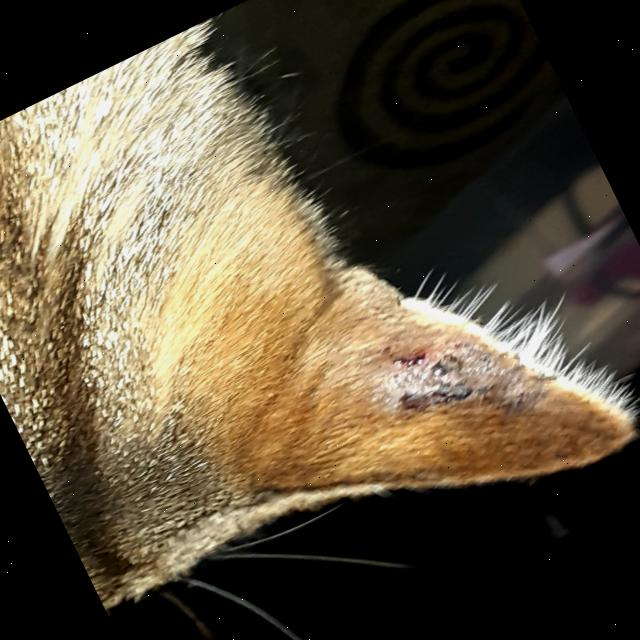cat-scabies: (376, 299, 553, 459)
